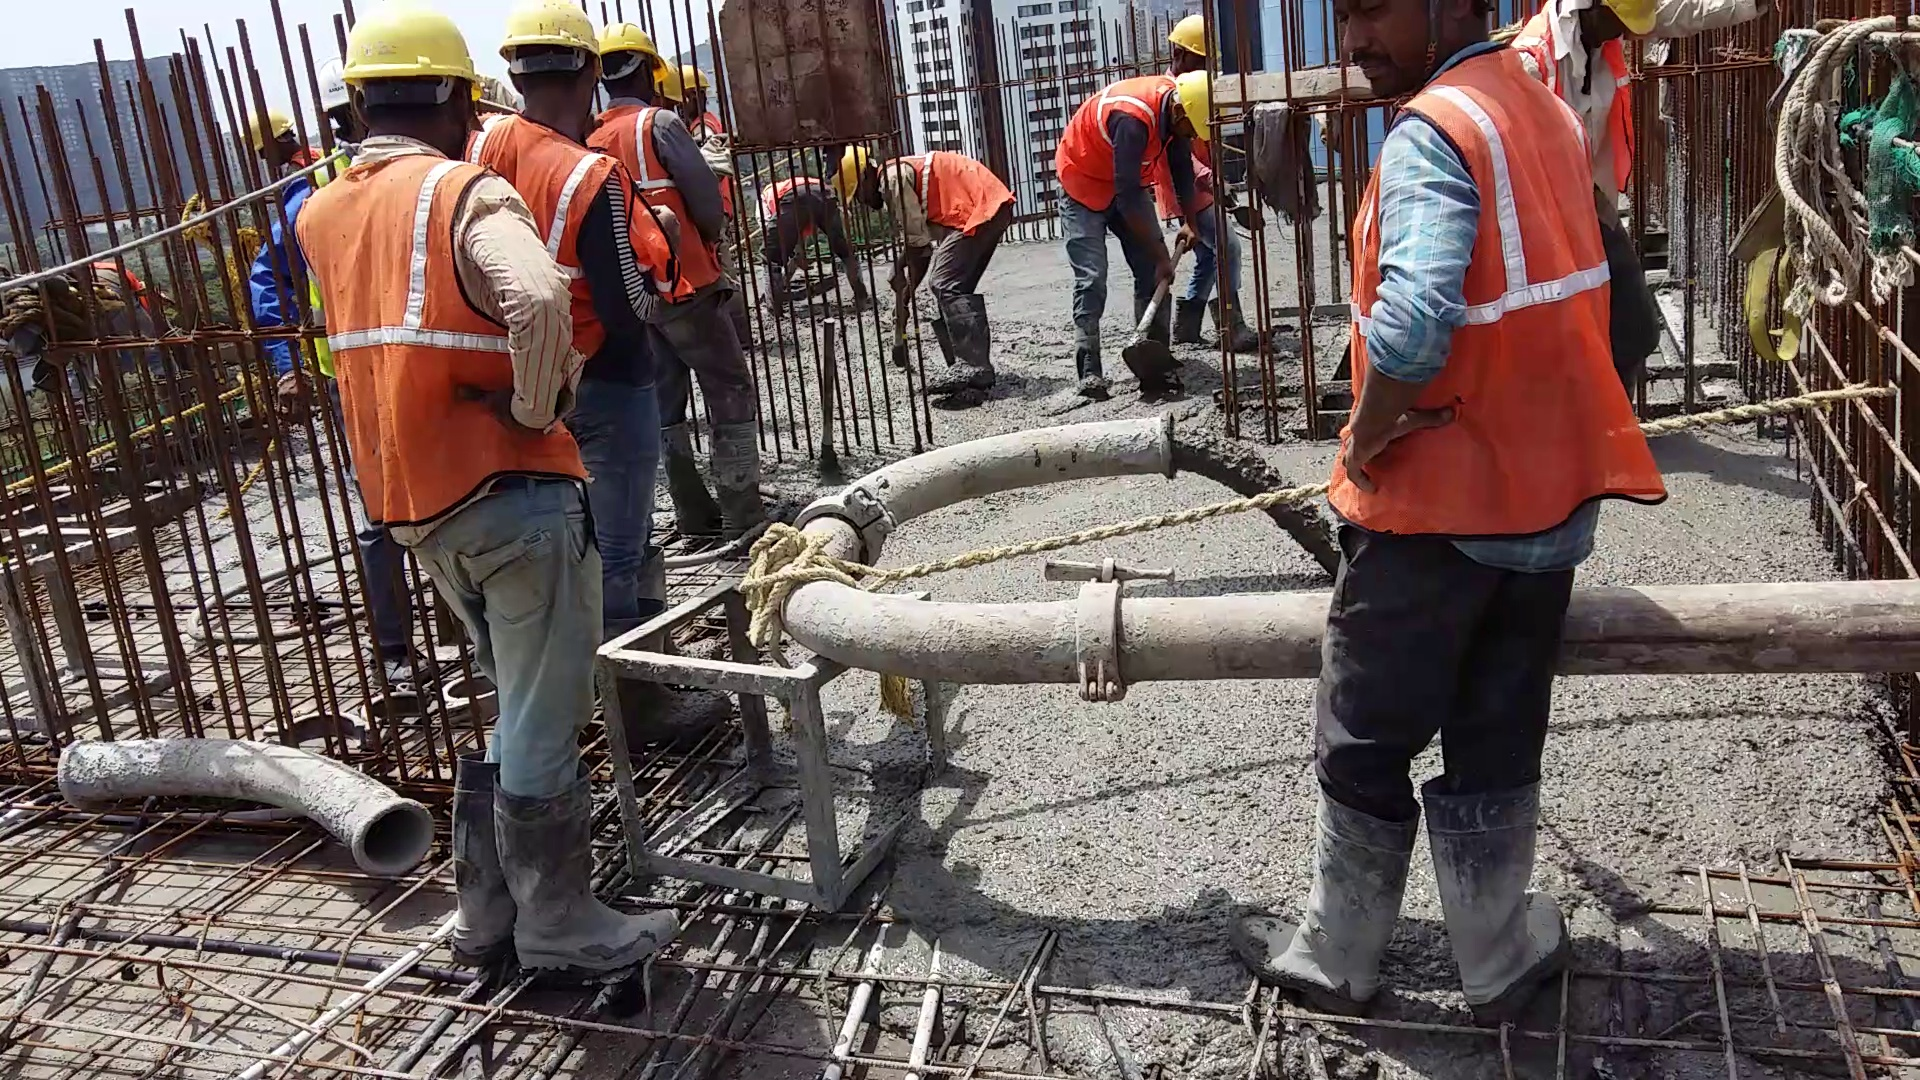NoHardhat: (1327, 5, 1648, 535)
SAFE: (293, 1, 500, 520), (500, 5, 618, 396), (607, 22, 695, 313), (1058, 65, 1216, 208)
